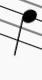B: (9, 2, 36, 58)
